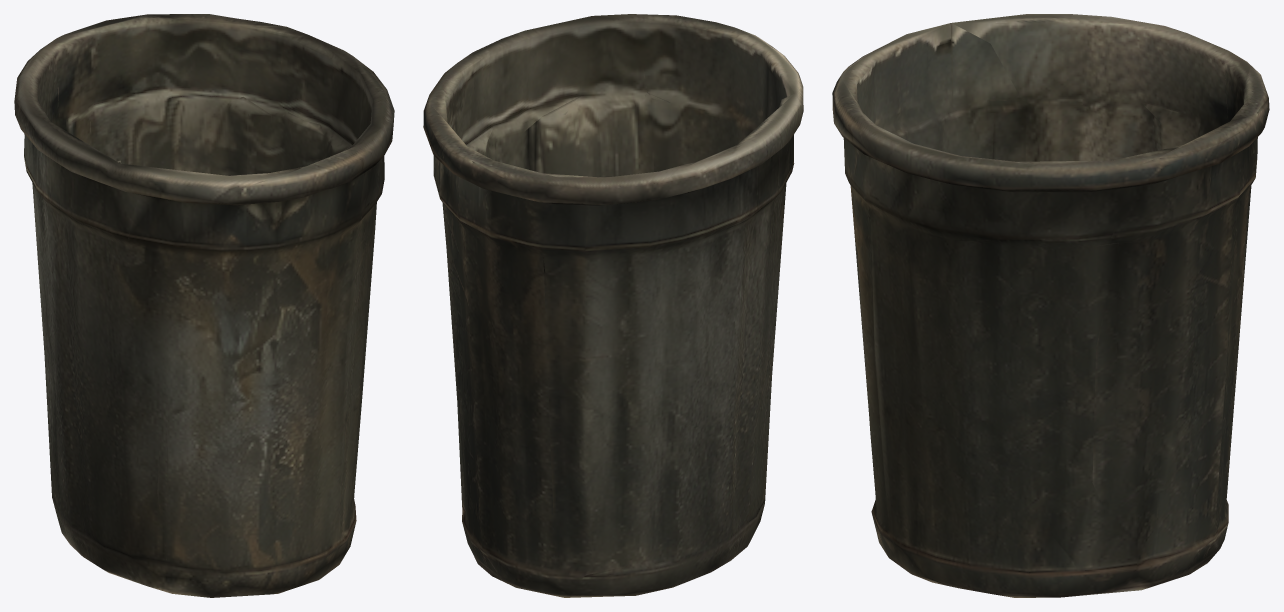
The model's file is rubbish bin.fbx.
3 views of the same model, side by side, from view 1: azimuth 30°, elevation 25°; view 2: azimuth 150°, elevation 25°; view 3: azimuth 270°, elevation 25° (orthographic). The views are drawn at different scales.
Parts seen in each view (by area): view 1: rubbish bin; view 2: rubbish bin; view 3: rubbish bin.
Boxes of the visible parts, x1,y1,x2,y2 form: rubbish bin: (14, 14, 394, 597); rubbish bin: (423, 14, 803, 597); rubbish bin: (832, 14, 1269, 597).
Size of the model in its own units: 228 by 304 by 264.
Materials: 1 (1 with a texture image).
